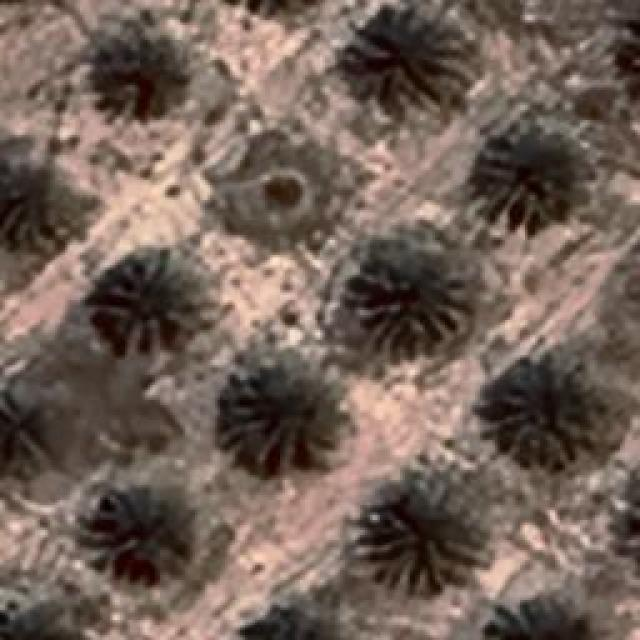PalmTree: (217, 347, 355, 475), (360, 478, 485, 600), (28, 93, 70, 431), (475, 352, 603, 462), (342, 5, 470, 113), (350, 250, 465, 355), (470, 135, 582, 223), (100, 250, 195, 350), (92, 480, 192, 572), (88, 31, 178, 114), (484, 599, 602, 640), (236, 601, 348, 640), (0, 599, 82, 640), (614, 464, 640, 576), (615, 2, 640, 100), (35, 91, 56, 201), (622, 470, 640, 580), (621, 3, 640, 100), (220, 0, 328, 16), (220, 0, 329, 12)
